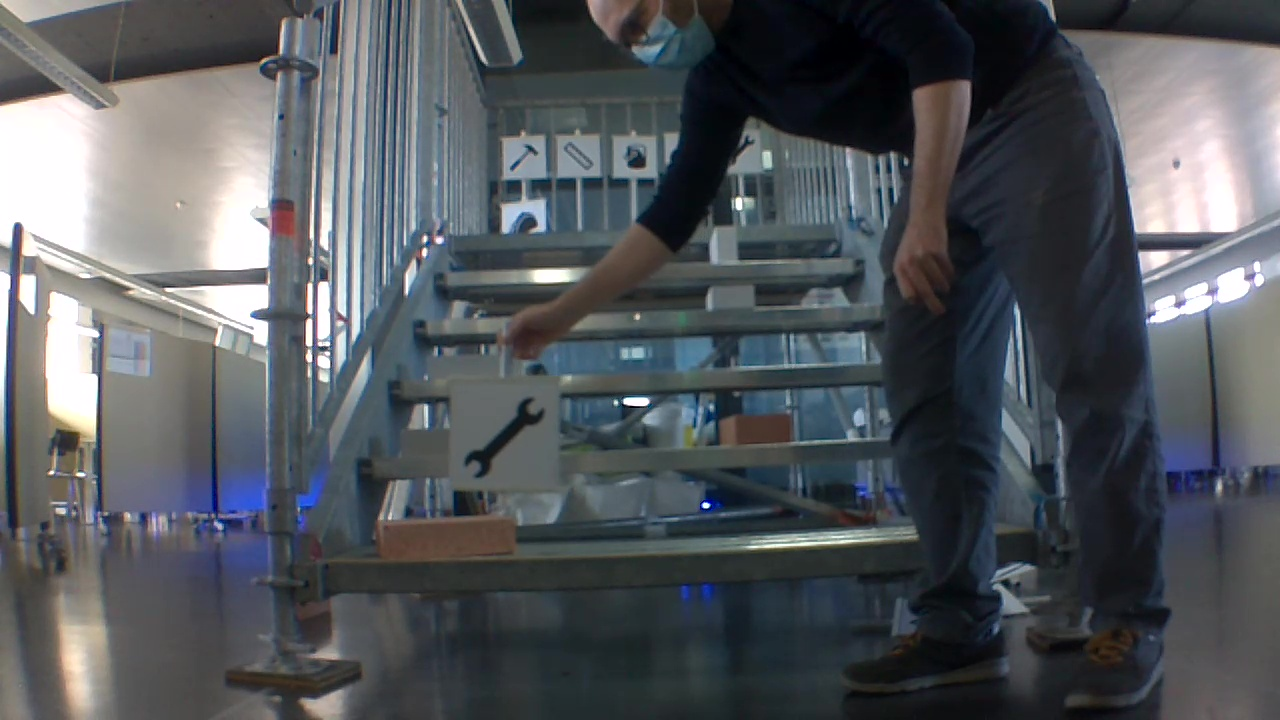brick: (376, 517, 513, 558), (722, 413, 793, 444), (428, 355, 497, 379), (398, 428, 451, 456), (704, 287, 754, 310), (710, 228, 737, 260)
bucket: (618, 139, 650, 175)
hammer: (506, 137, 540, 173)
ruler: (560, 140, 596, 170)
taco: (507, 206, 536, 234)
wrench: (456, 393, 549, 481)
